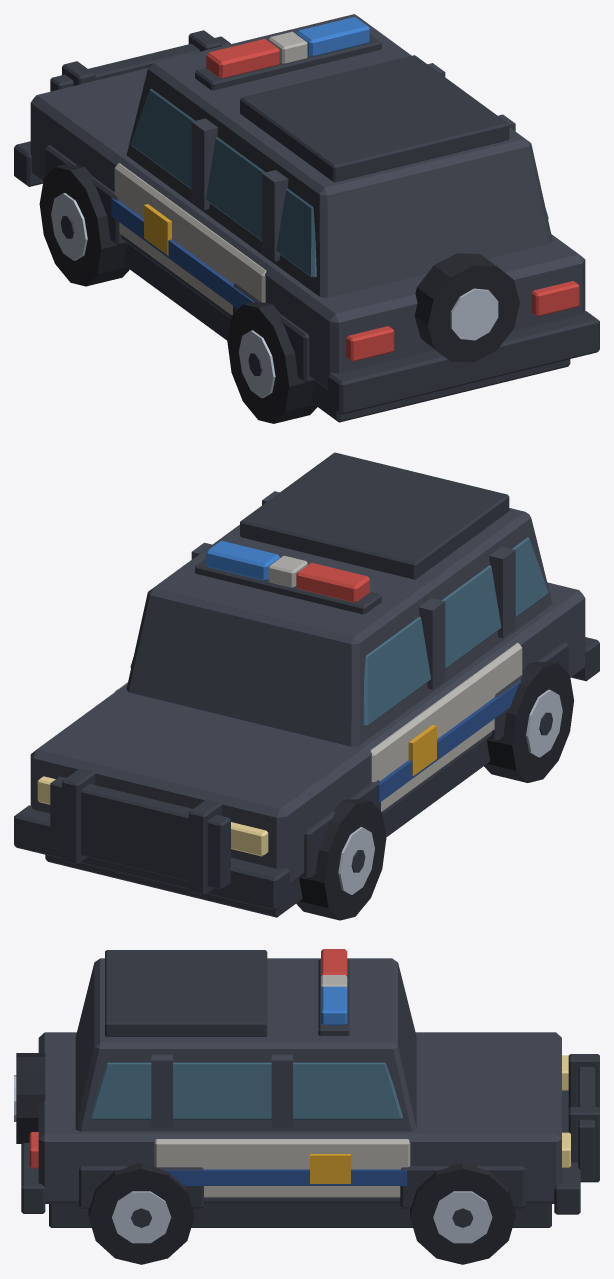
Rendered from Stylized_Vehicle_Police_SUV.fbx.
The picture shows the model from 3 angles, top to bottom: view 1: azimuth 30°, elevation 25°; view 2: azimuth 150°, elevation 25°; view 3: azimuth 270°, elevation 25°; orthographic projection. The views are drawn at different scales.
Parts seen in each view (by area): view 1: Stylized_Vehicle_Police_SUV; view 2: Stylized_Vehicle_Police_SUV; view 3: Stylized_Vehicle_Police_SUV.
Part boxes in pixels (x1,y1,x2,y2): Stylized_Vehicle_Police_SUV: (14,14,599,423); Stylized_Vehicle_Police_SUV: (14,452,599,920); Stylized_Vehicle_Police_SUV: (14,949,599,1264).
Bounding box in the file's own units: 2.4 × 2.07 × 4.87.
